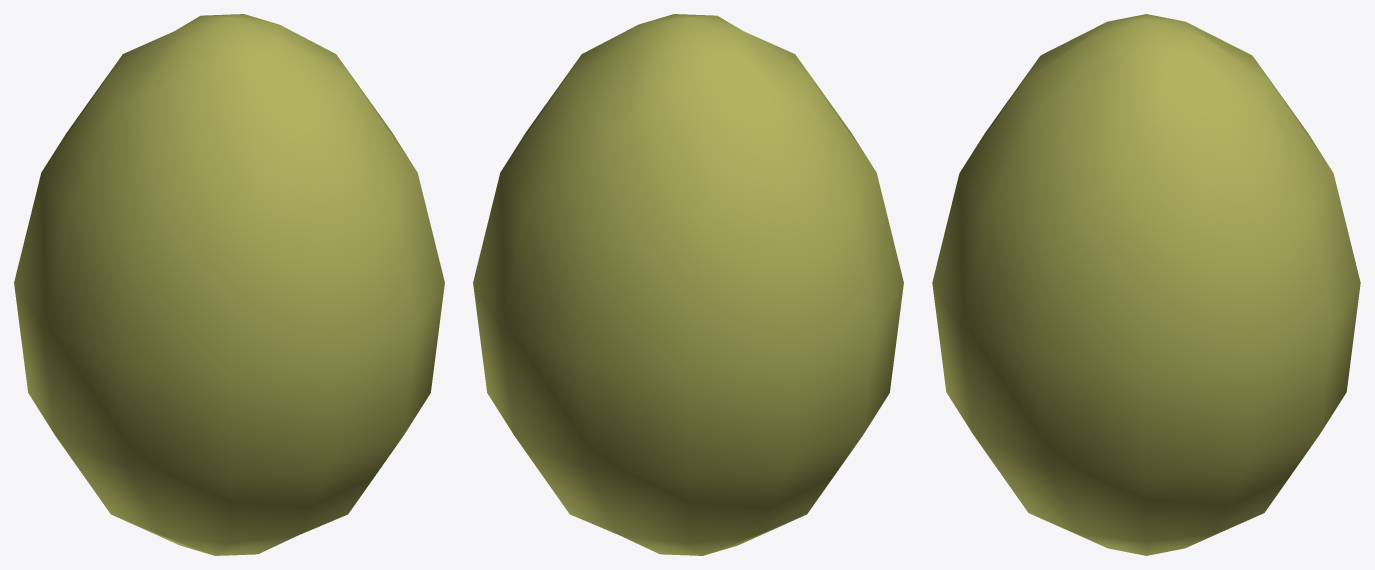
The picture shows the model from 3 angles, left to right: view 1: azimuth 30°, elevation 25°; view 2: azimuth 150°, elevation 25°; view 3: azimuth 270°, elevation 25°; orthographic projection.
Visible parts, largest first — view 1: G:\FFXIV-MapTools\exports\f1t2\bgcommon\world\eas\001\bgpart; view 2: G:\FFXIV-MapTools\exports\f1t2\bgcommon\world\eas\001\bgpart; view 3: G:\FFXIV-MapTools\exports\f1t2\bgcommon\world\eas\001\bgpart.
Boxes of the visible parts, x1,y1,x2,y2 form: G:\FFXIV-MapTools\exports\f1t2\bgcommon\world\eas\001\bgpart: (14, 14, 444, 555); G:\FFXIV-MapTools\exports\f1t2\bgcommon\world\eas\001\bgpart: (473, 14, 903, 555); G:\FFXIV-MapTools\exports\f1t2\bgcommon\world\eas\001\bgpart: (932, 14, 1360, 555).
Size of the model in its own units: 0.3479 by 0.4668 by 0.3479.
